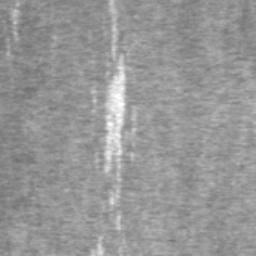White rust: (103, 55, 126, 174)
